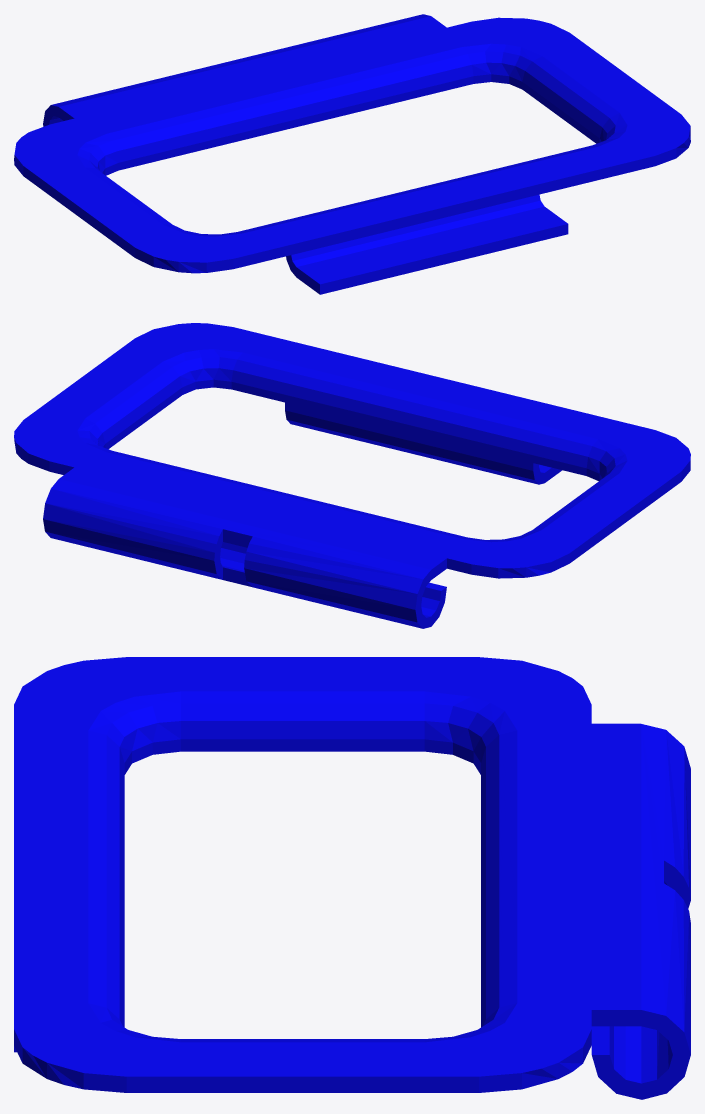
The model's file is recessed_latch_handle.obj.
The picture shows the model from 3 angles, top to bottom: view 1: azimuth 30°, elevation 25°; view 2: azimuth 150°, elevation 25°; view 3: azimuth 270°, elevation 25°; orthographic projection. The views are drawn at different scales.
Bounding box in the file's own units: 0.0559 × 0.00559 × 0.0381.
